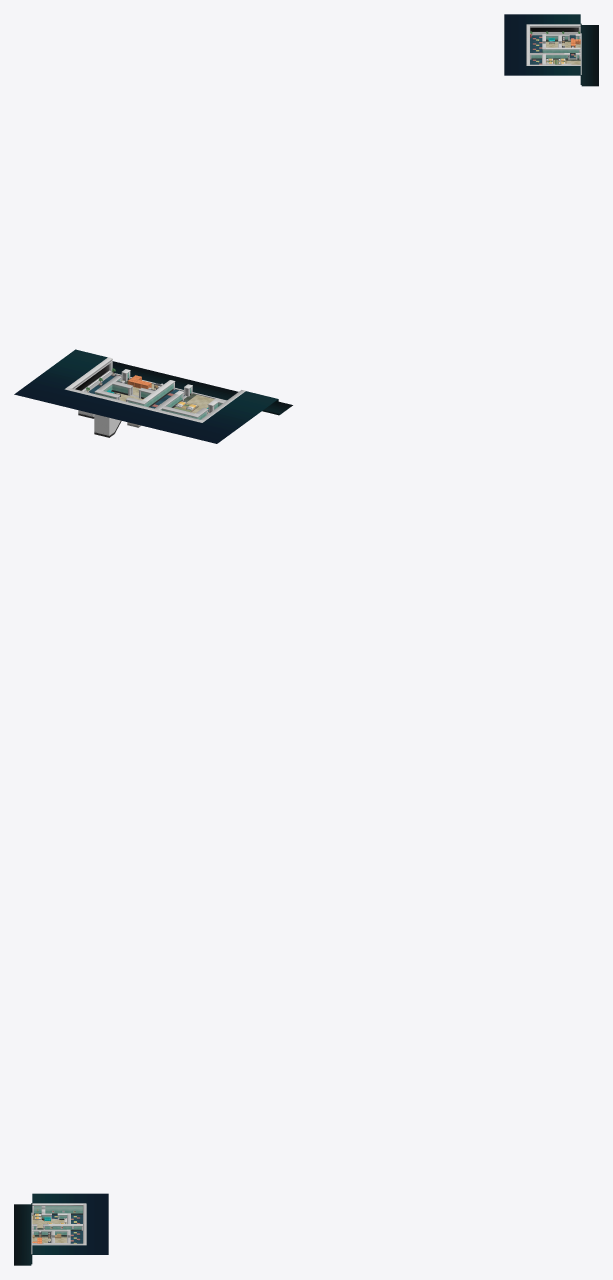
The picture shows the model from 3 angles, top to bottom: view 1: azimuth 90°, elevation 25°; view 2: azimuth 150°, elevation 25°; view 3: azimuth 270°, elevation 25°; orthographic projection. The views are drawn at different scales.
Visible parts, largest first — view 1: combg01_01, df94fd339cb4e764b4e044; view 2: combg01_01, df94fd339cb4e764b4e044, c523268f556ea07da375a762; view 3: combg01_01, df94fd339cb4e764b4e044, c523268f556ea07da375a762.
Boxes of the visible parts, bbox=[...] form: combg01_01: bbox=[504, 14, 598, 86]; df94fd339cb4e764b4e044: bbox=[526, 24, 581, 74]; combg01_01: bbox=[14, 349, 292, 443]; df94fd339cb4e764b4e044: bbox=[64, 357, 245, 422]; c523268f556ea07da375a762: bbox=[95, 372, 221, 419]; combg01_01: bbox=[14, 1193, 108, 1265]; df94fd339cb4e764b4e044: bbox=[31, 1203, 86, 1254]; c523268f556ea07da375a762: bbox=[34, 1206, 82, 1235].
Size of the model in its own units: 22031 by 541 by 18378.
Materials: 44 (43 with a texture image).
